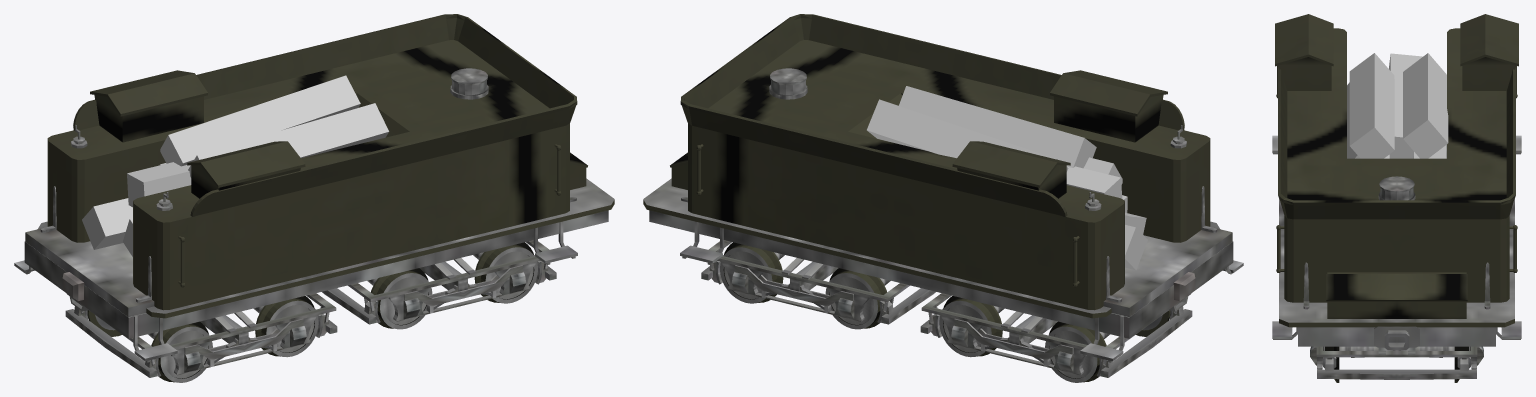
The model's file is vt_440_tender.obj.
The picture shows the model from 3 angles, left to right: view 1: azimuth 30°, elevation 25°; view 2: azimuth 150°, elevation 25°; view 3: azimuth 270°, elevation 25°; orthographic projection. The views are drawn at different scales.
Visible parts, largest first — view 1: Cube.002_Cube, Cube_Cube.004, Cube.001, Cube.000_Cube.003, Cube.008_Cube.009, Cube.007_Cube.008, Cylinder.002, Cube.003_Cube.002, Cube.006_Cube.007, Cylinder.000_Cylinder.003, Cylinder.018_Cylinder.013, Cylinder.001_Cylinder.004; view 2: Cube.002_Cube, Cube_Cube.004, Cube.001, Cube.000_Cube.003, Cube.007_Cube.008, Cube.008_Cube.009, Cylinder.002, Cylinder.000_Cylinder.003, Cylinder.018_Cylinder.013, Cylinder.001_Cylinder.004, Cube.006_Cube.007, Cube.003_Cube.002; view 3: Cube.002_Cube, Cube_Cube.004, Cube.007_Cube.008, Cube.008_Cube.009, Cube.001, Cube.006_Cube.007, Cylinder.001_Cylinder.004, Cube.005_Cube.006.
Boxes of the visible parts, x1,y1,x2,y2 form: Cube.002_Cube: (40, 14, 587, 310); Cube_Cube.004: (14, 178, 614, 362); Cube.001: (65, 240, 556, 377); Cube.000_Cube.003: (222, 263, 463, 358); Cube.008_Cube.009: (160, 75, 360, 166); Cube.007_Cube.008: (188, 103, 389, 177); Cylinder.002: (87, 310, 212, 382); Cube.003_Cube.002: (82, 198, 132, 249); Cube.006_Cube.007: (127, 162, 191, 207); Cylinder.000_Cylinder.003: (367, 268, 432, 329); Cylinder.018_Cylinder.013: (253, 296, 318, 357); Cylinder.001_Cylinder.004: (473, 242, 537, 303); Cube.002_Cube: (670, 14, 1217, 310); Cube_Cube.004: (643, 178, 1243, 362); Cube.001: (701, 240, 1192, 377); Cube.000_Cube.003: (794, 263, 1035, 358); Cube.007_Cube.008: (899, 86, 1096, 168); Cube.008_Cube.009: (867, 99, 1068, 171); Cylinder.002: (1045, 310, 1170, 382); Cylinder.000_Cylinder.003: (825, 268, 890, 329); Cylinder.018_Cylinder.013: (939, 296, 1004, 357); Cylinder.001_Cylinder.004: (720, 242, 784, 303); Cube.006_Cube.007: (1066, 166, 1122, 198); Cube.003_Cube.002: (1125, 225, 1147, 270); Cube.002_Cube: (1275, 14, 1518, 318); Cube_Cube.004: (1272, 135, 1521, 350); Cube.007_Cube.008: (1349, 53, 1394, 158); Cube.008_Cube.009: (1403, 53, 1448, 158); Cube.001: (1310, 346, 1483, 379); Cube.006_Cube.007: (1389, 53, 1422, 158); Cylinder.001_Cylinder.004: (1324, 346, 1469, 382); Cube.005_Cube.006: (1347, 82, 1389, 158).
Bounding box in the file's own units: 6.17 × 2.69 × 2.79.
